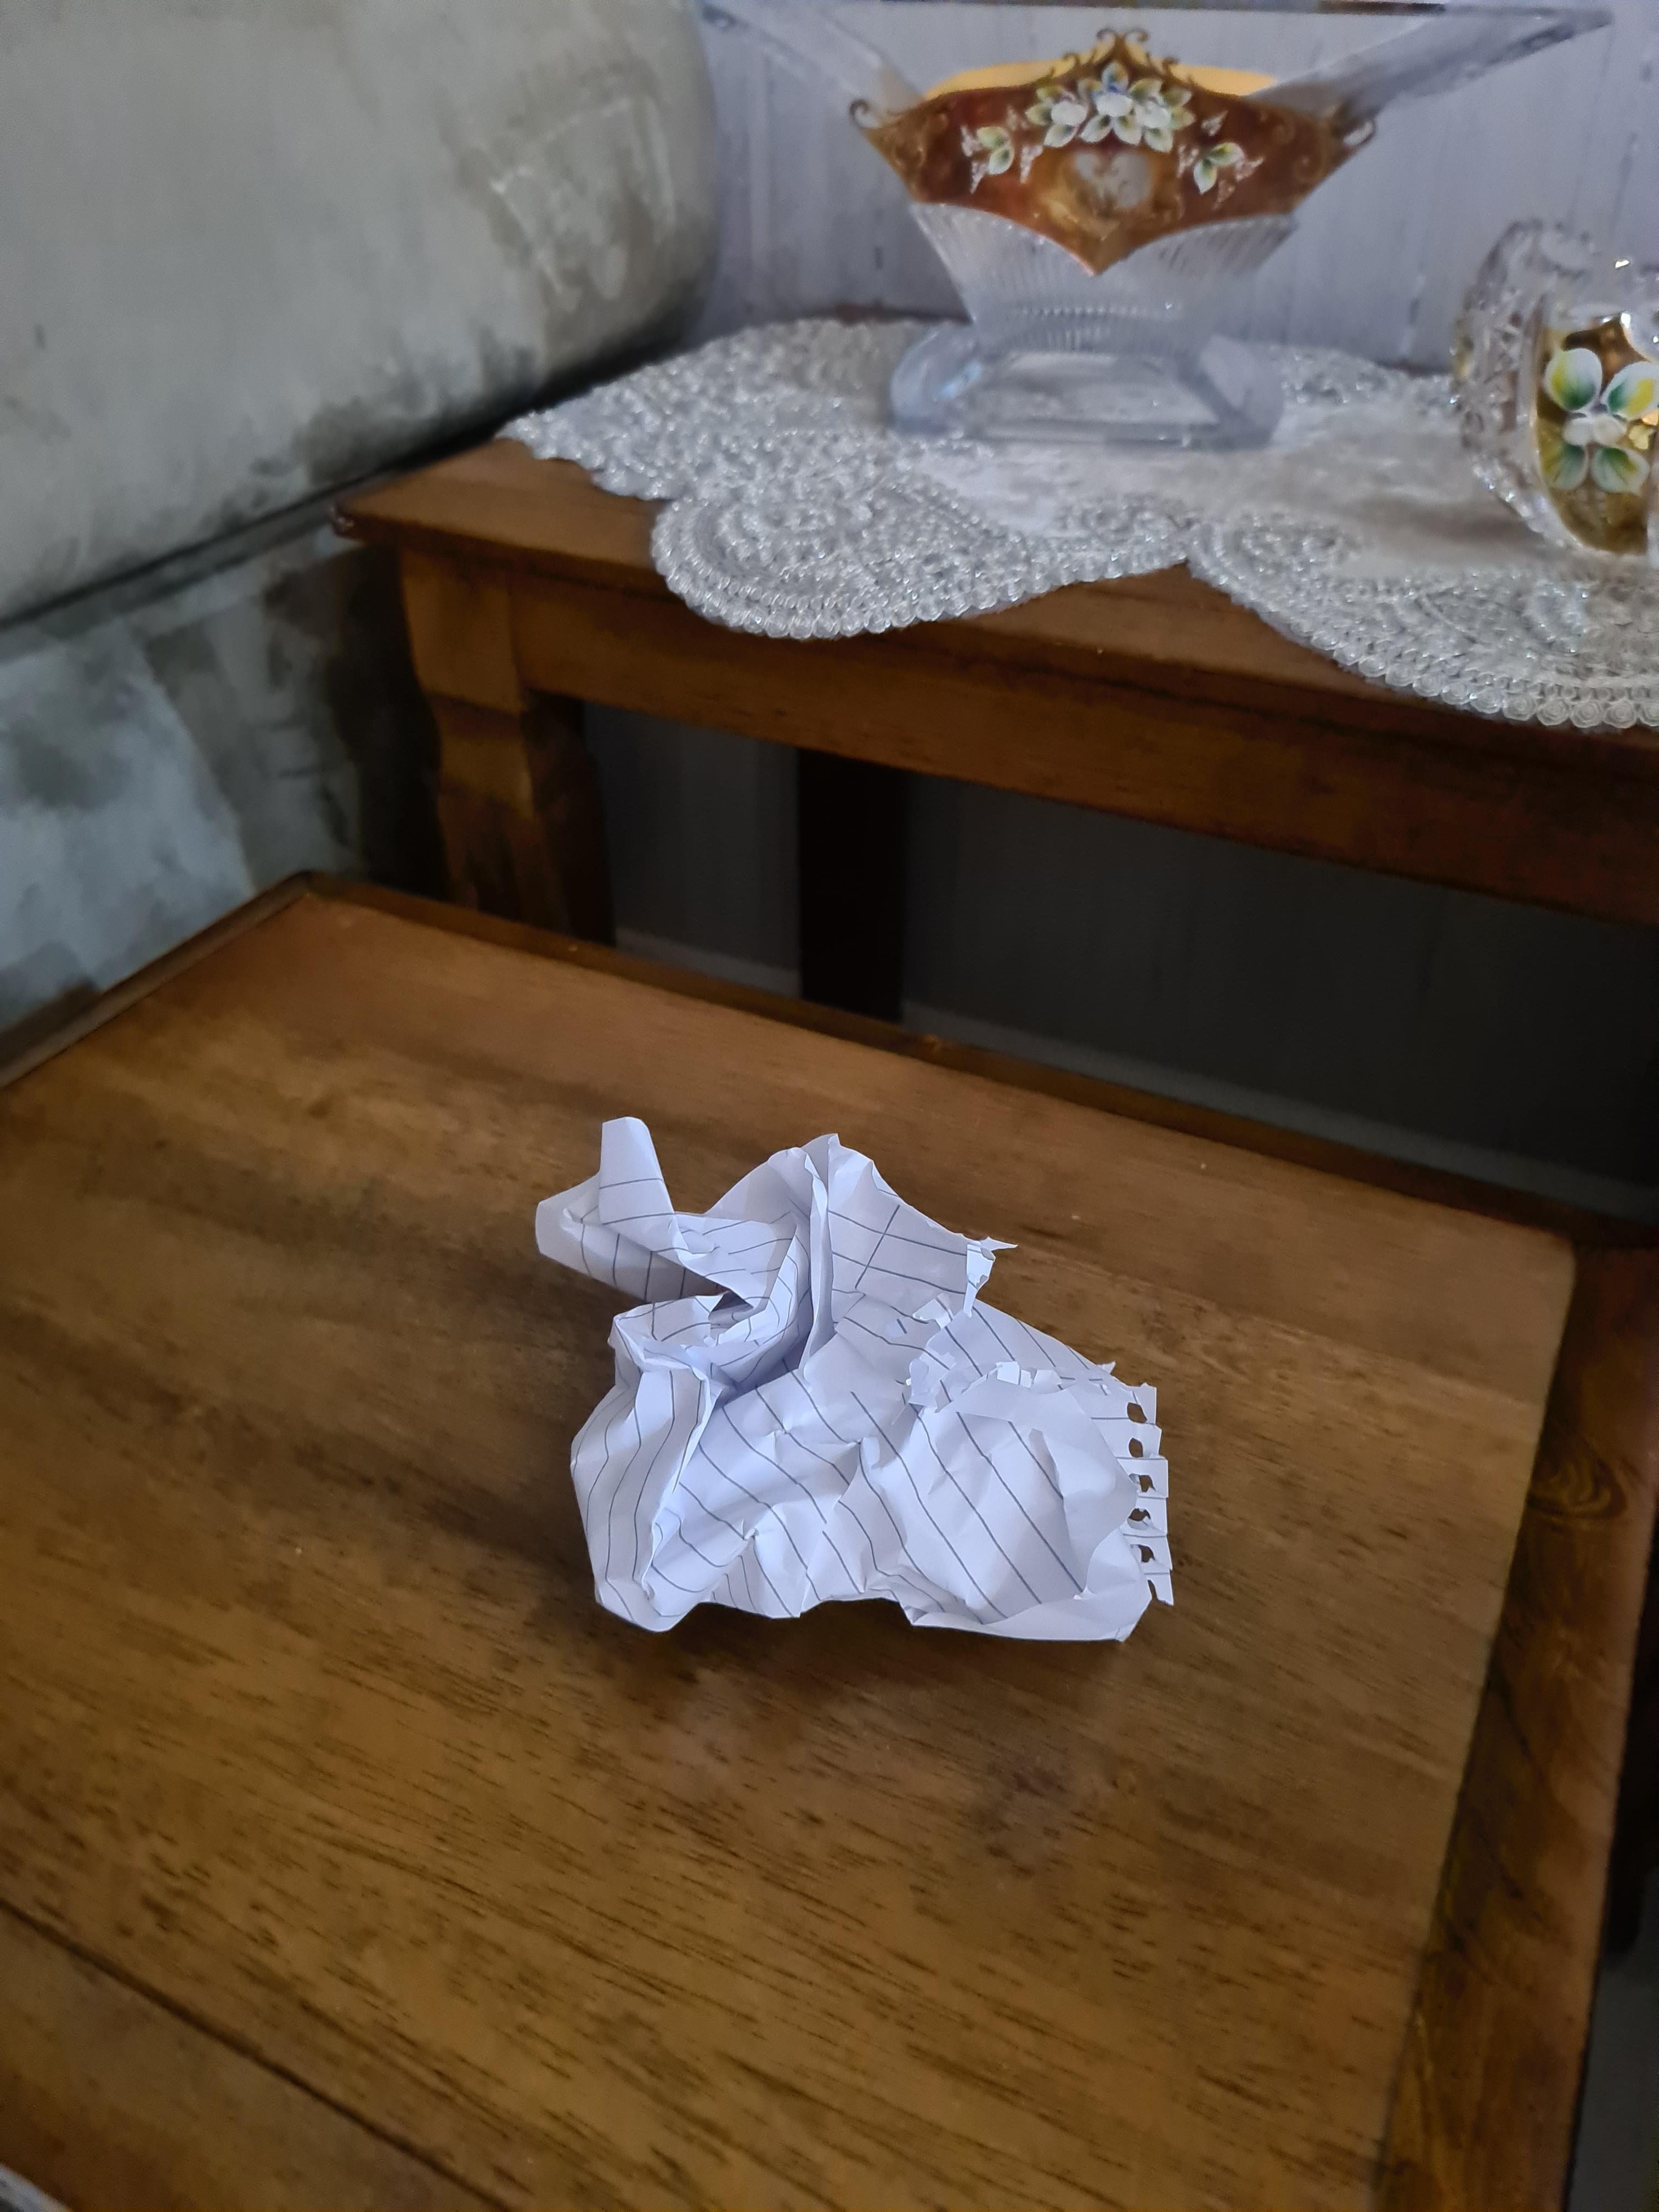Paper: (523, 1109, 1169, 1653)
